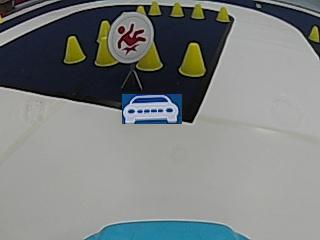cone: (179, 41, 206, 78), (137, 45, 164, 72), (63, 35, 85, 64), (94, 40, 116, 68), (170, 1, 184, 17), (191, 3, 205, 19), (216, 5, 229, 22), (148, 0, 161, 16), (308, 24, 318, 43)
tumble: (114, 17, 150, 56)
